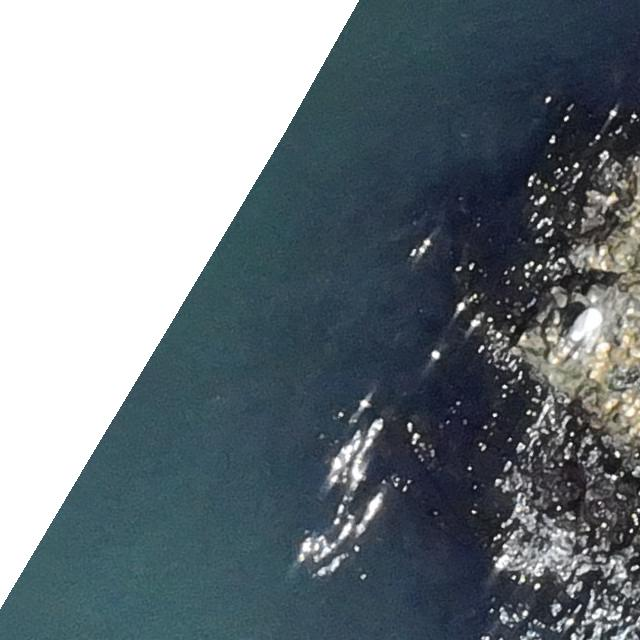umineko: (566, 309, 604, 343)
